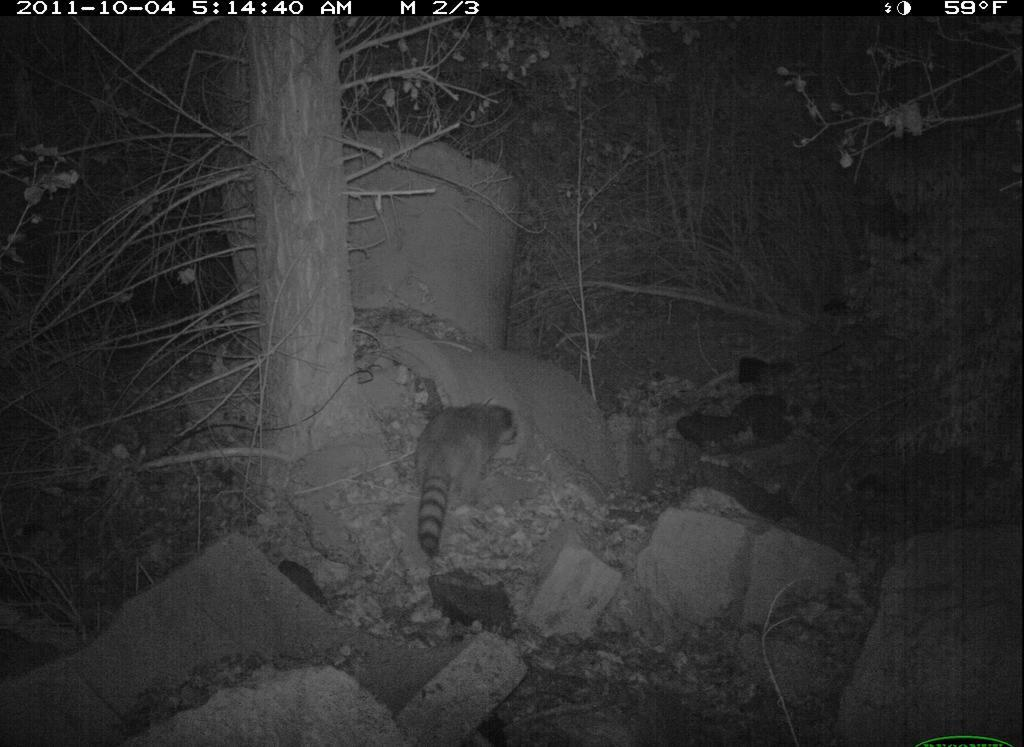raccoon: (399, 388, 543, 577)
